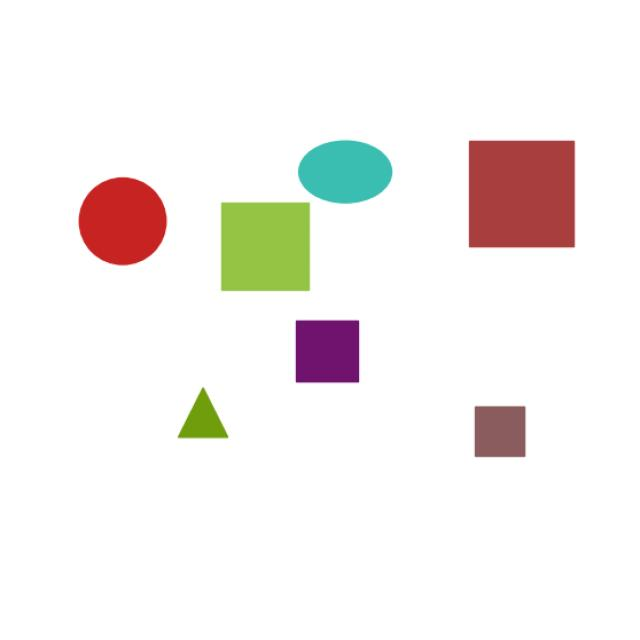Circle: (72, 173, 185, 275)
Oval: (284, 132, 420, 220)
Triangle: (156, 381, 255, 468)
square: (458, 127, 584, 262), (210, 193, 328, 302), (460, 396, 574, 489), (282, 309, 388, 399)
